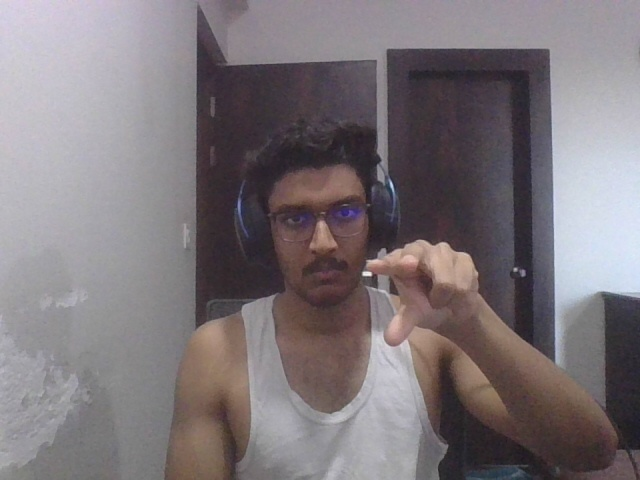No: (356, 229, 486, 350)
